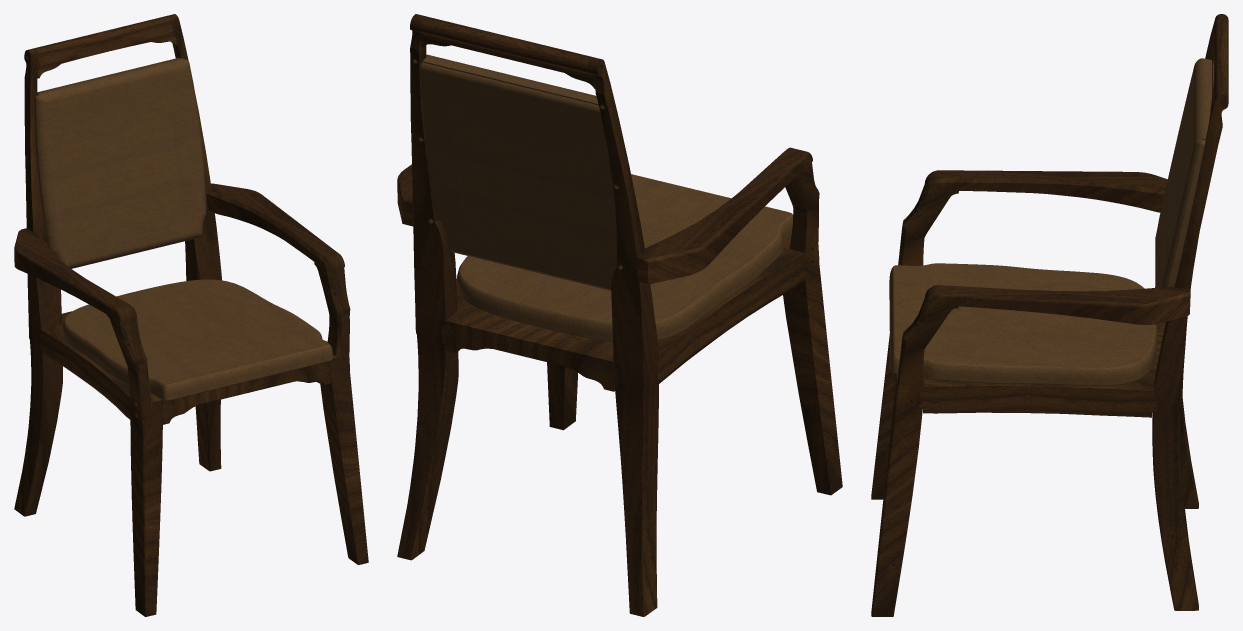
Rendered from legacy-arm.glb.
3 views of the same model, side by side, from view 1: azimuth 30°, elevation 25°; view 2: azimuth 150°, elevation 25°; view 3: azimuth 270°, elevation 25° (orthographic). The views are drawn at different scales.
Visible parts, largest first — view 1: Body1.001, Body66, Body11, Body12, Body17, Body2 (1) (1), Body1.002, Body1; view 2: Body1.001, Body66, Body17, Body11, Body1.002, Body2 (1) (1), Body1, Body12; view 3: Body66, Body12, Body1.002, Body11, Body2 (1) (1), Body1.001, Body17, Body1.
Part boxes in pixels (x1=…): Body1.001: x1=34, y1=57, x2=206, y2=268; Body66: x1=62, y1=279, x2=332, y2=400; Body11: x1=14, y1=228, x2=162, y2=616; Body12: x1=206, y1=183, x2=368, y2=564; Body17: x1=14, y1=48, x2=62, y2=516; Body2 (1) (1): x1=40, y1=311, x2=333, y2=424; Body1.002: x1=168, y1=14, x2=221, y2=471; Body1: x1=34, y1=15, x2=177, y2=78; Body1.001: x1=420, y1=54, x2=616, y2=290; Body66: x1=456, y1=174, x2=792, y2=341; Body17: x1=588, y1=57, x2=659, y2=616; Body11: x1=637, y1=147, x2=842, y2=495; Body1.002: x1=397, y1=14, x2=458, y2=560; Body2 (1) (1): x1=441, y1=236, x2=806, y2=391; Body1: x1=420, y1=16, x2=595, y2=88; Body12: x1=397, y1=164, x2=577, y2=430; Body66: x1=889, y1=263, x2=1157, y2=385; Body12: x1=871, y1=285, x2=1190, y2=616; Body1.002: x1=1152, y1=91, x2=1228, y2=610; Body11: x1=871, y1=170, x2=1167, y2=499; Body2 (1) (1): x1=894, y1=322, x2=1165, y2=417; Body1.001: x1=1155, y1=58, x2=1213, y2=322; Body17: x1=1155, y1=14, x2=1228, y2=508; Body1: x1=1209, y1=18, x2=1228, y2=120.
Size of the model in its own units: 0.581 by 1.02 by 0.6548.
Materials: 2 (2 with a texture image).
